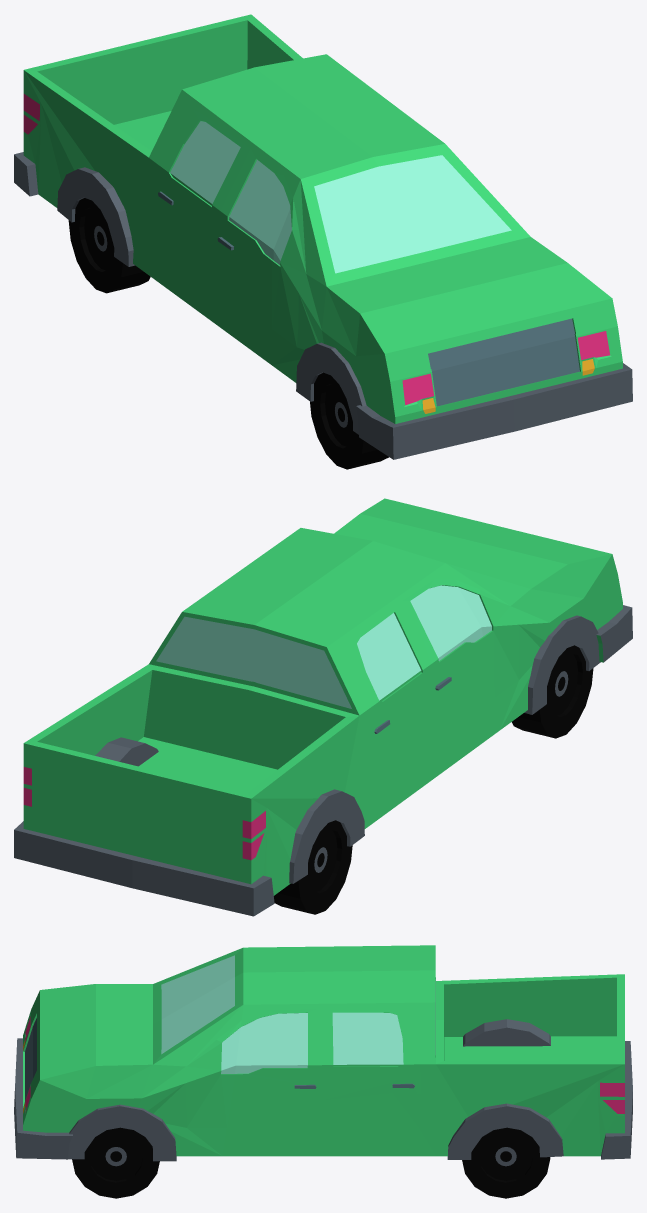
The model's file is PickUpTruck.fbx_GreenTruck.fbx.
The picture shows the model from 3 angles, top to bottom: view 1: azimuth 30°, elevation 25°; view 2: azimuth 150°, elevation 25°; view 3: azimuth 270°, elevation 25°; orthographic projection. The views are drawn at different scales.
Parts seen in each view (by area): view 1: GreenTruck; view 2: GreenTruck; view 3: GreenTruck.
Boxes of the visible parts, left/top/right/bottom form: GreenTruck: left=14, top=14, right=632, bottom=469; GreenTruck: left=14, top=498, right=632, bottom=916; GreenTruck: left=14, top=945, right=632, bottom=1198.
Size of the model in its own units: 581 by 190 by 215.
